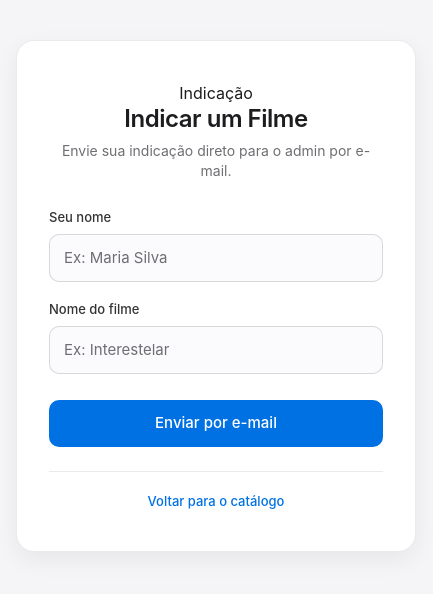
SuggestMovie (integração com POST /api/movie-requests) › envia a indicação para o backend
Type "Maria Silva" into the field labelled "Seu nome" at (216, 258), box [49, 234, 383, 282]
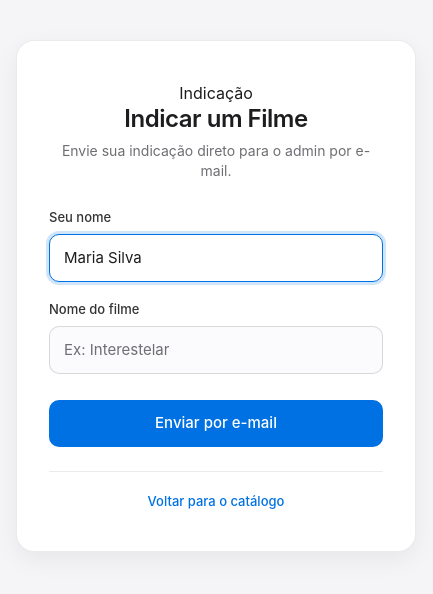
Type "Interestelar" into the field labelled "Nome do filme" at (216, 350), box [49, 326, 383, 374]
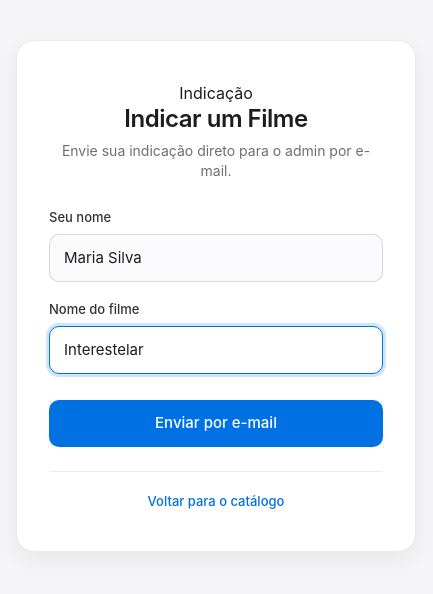
Click the button "Enviar por e-mail" at (216, 424), box [49, 400, 383, 447]
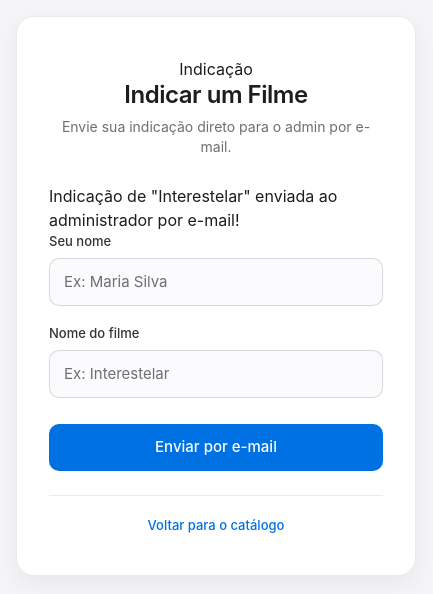
Result: the text "Indicação de \"Interestelar\" enviada" is shown at [49, 186, 337, 230]
